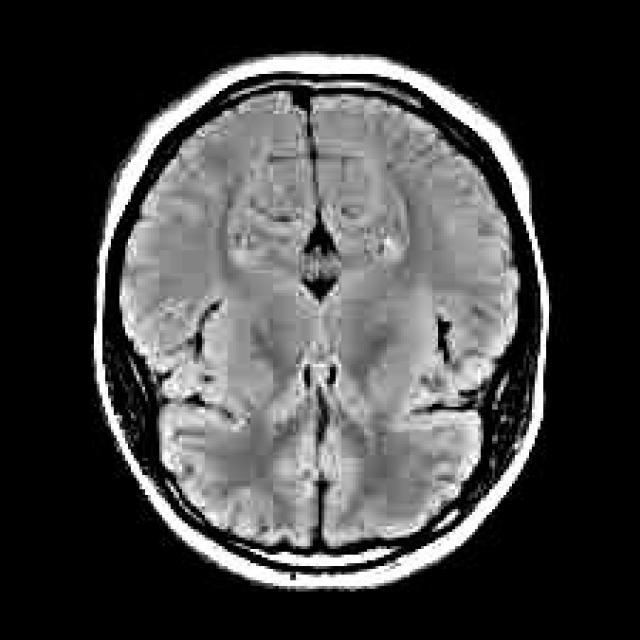notumor: (91, 54, 552, 594)
